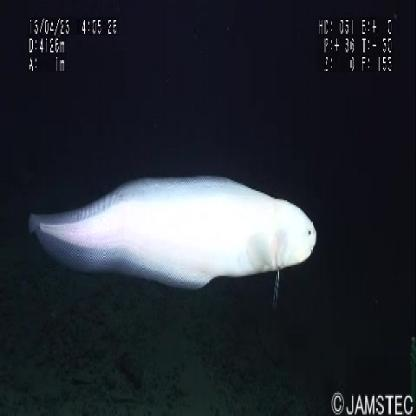Bio: (25, 171, 319, 296)
